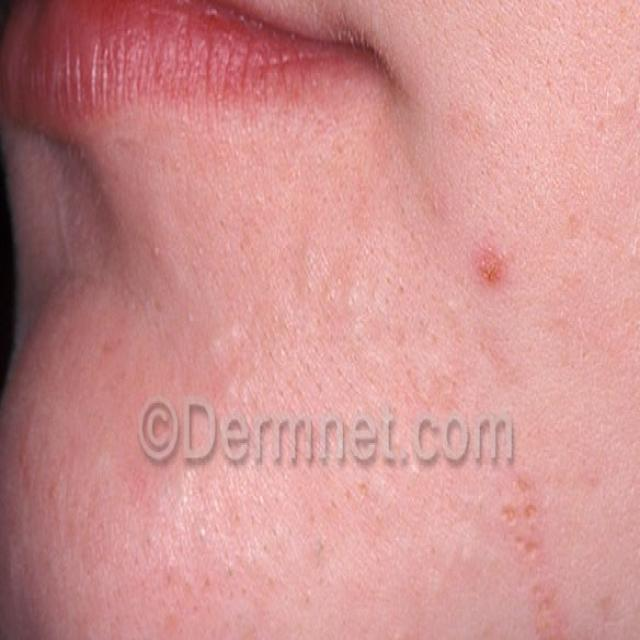Acne: (501, 465, 588, 640), (290, 228, 400, 340), (467, 210, 516, 328), (437, 513, 490, 586), (604, 78, 640, 137), (379, 601, 418, 640)
